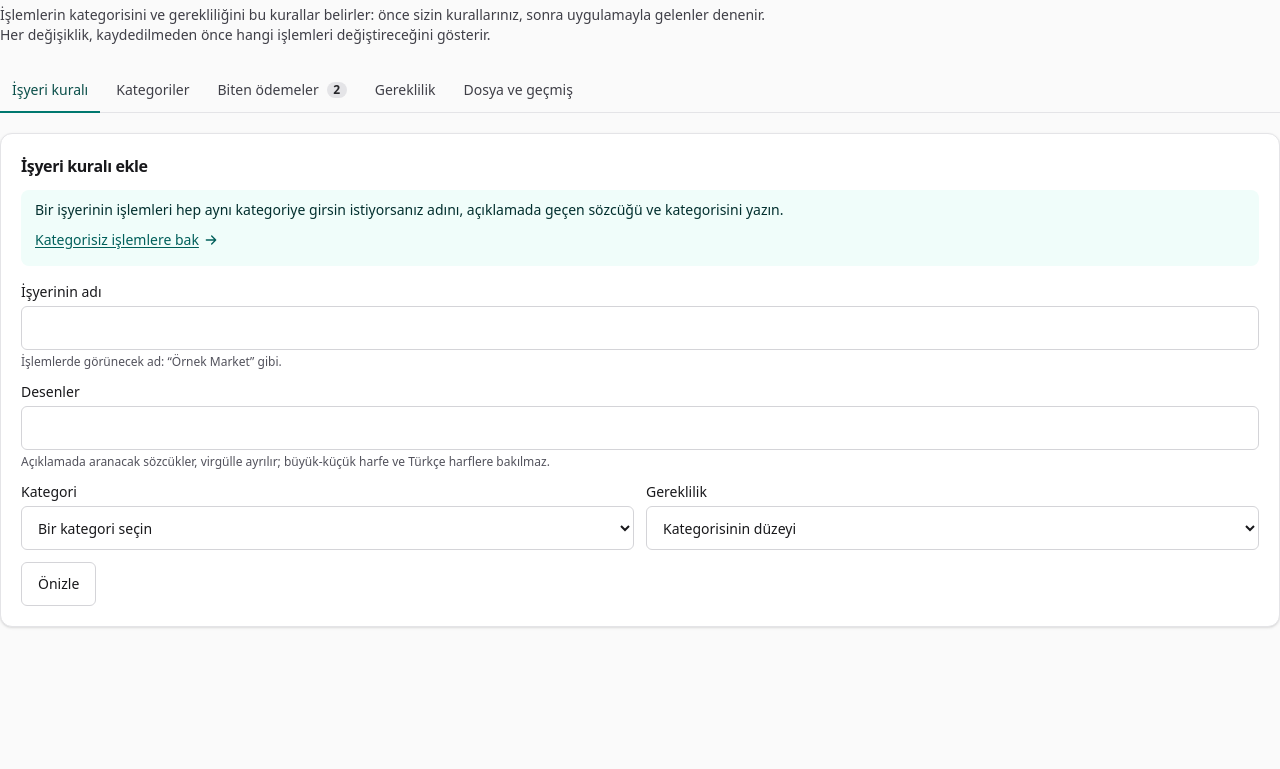
Test case: RulesPage: a merchant rule › previews the rule before writing it, then says what it changed
Step 1. Type "Örnek Kafe" into the field labelled "İşyerinin adı" → coordinates (640, 328), box top-left (21, 306), bottom-right (1259, 350)
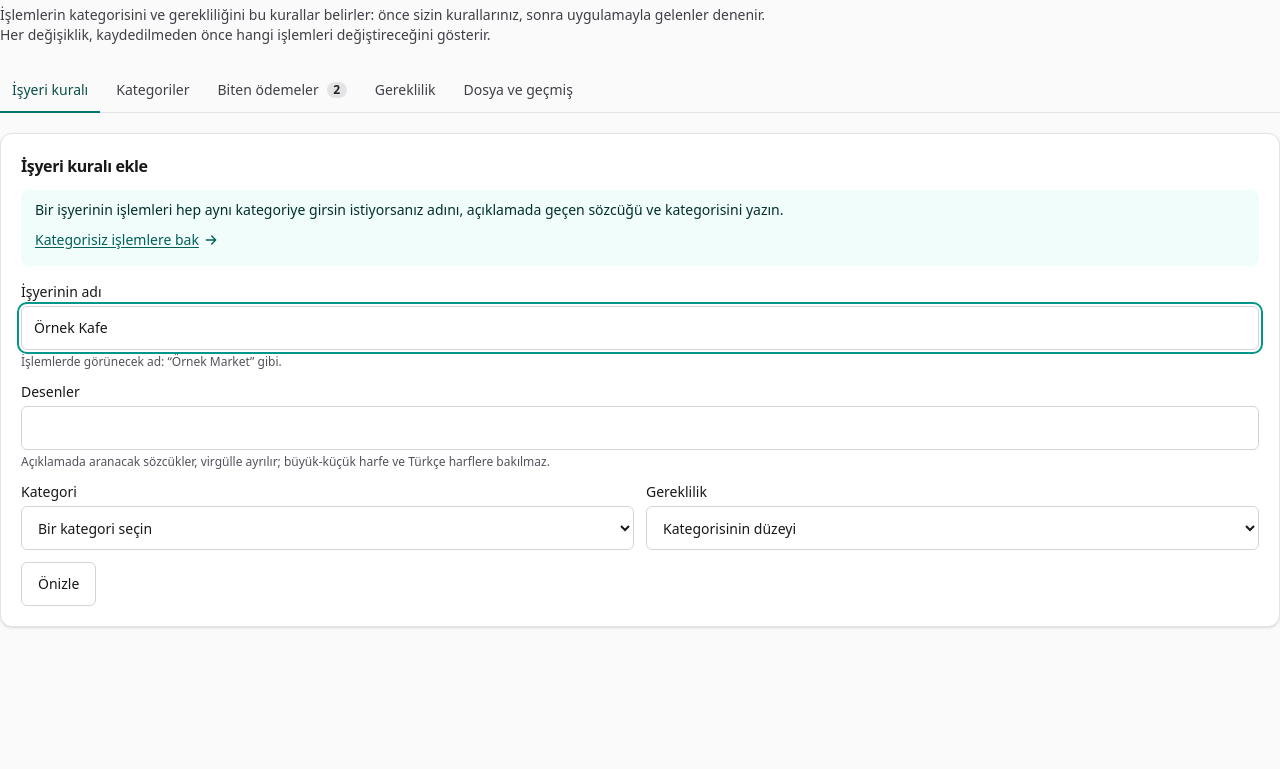
Step 2. Type "ORNEK KAFE, KAFE ORNEK" into the field labelled "Desenler" → coordinates (640, 428), box top-left (21, 406), bottom-right (1259, 450)
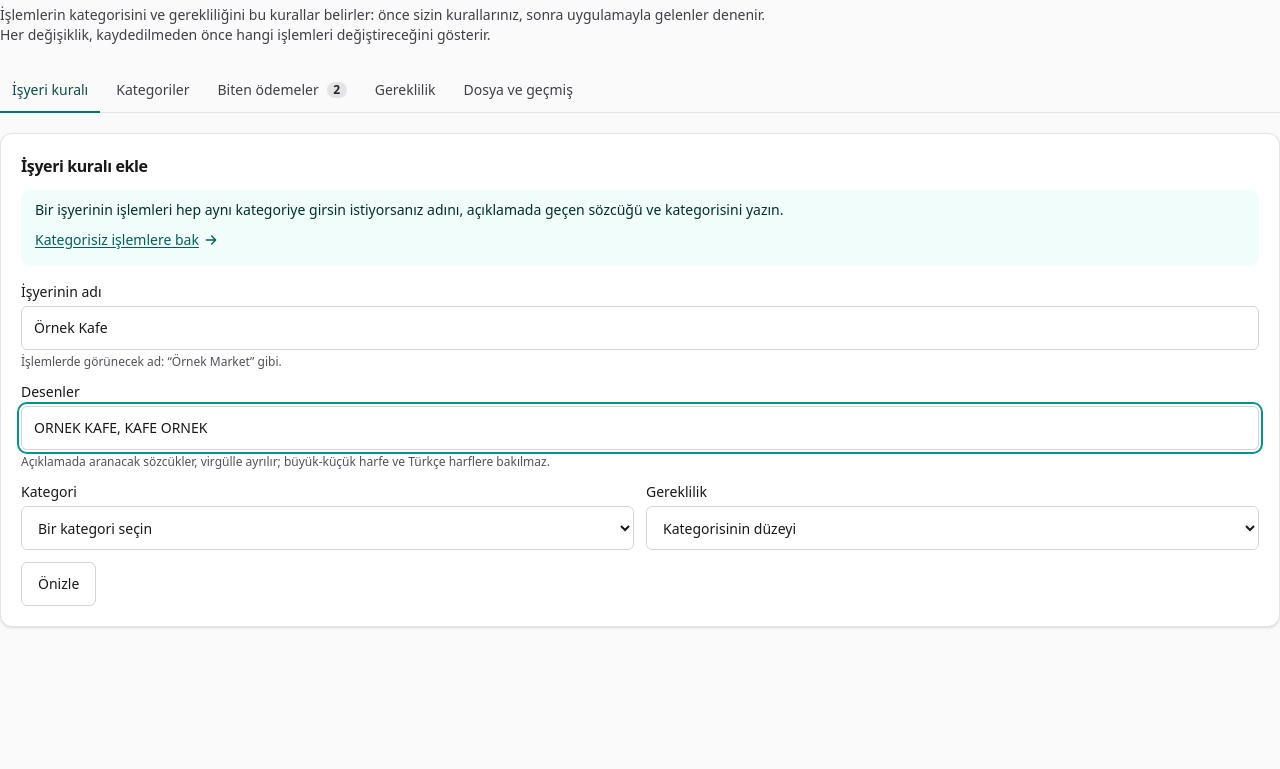
Step 3. Select "Kafe" in the dropdown labelled "Kategori" → coordinates (328, 528), box top-left (21, 506), bottom-right (634, 550)
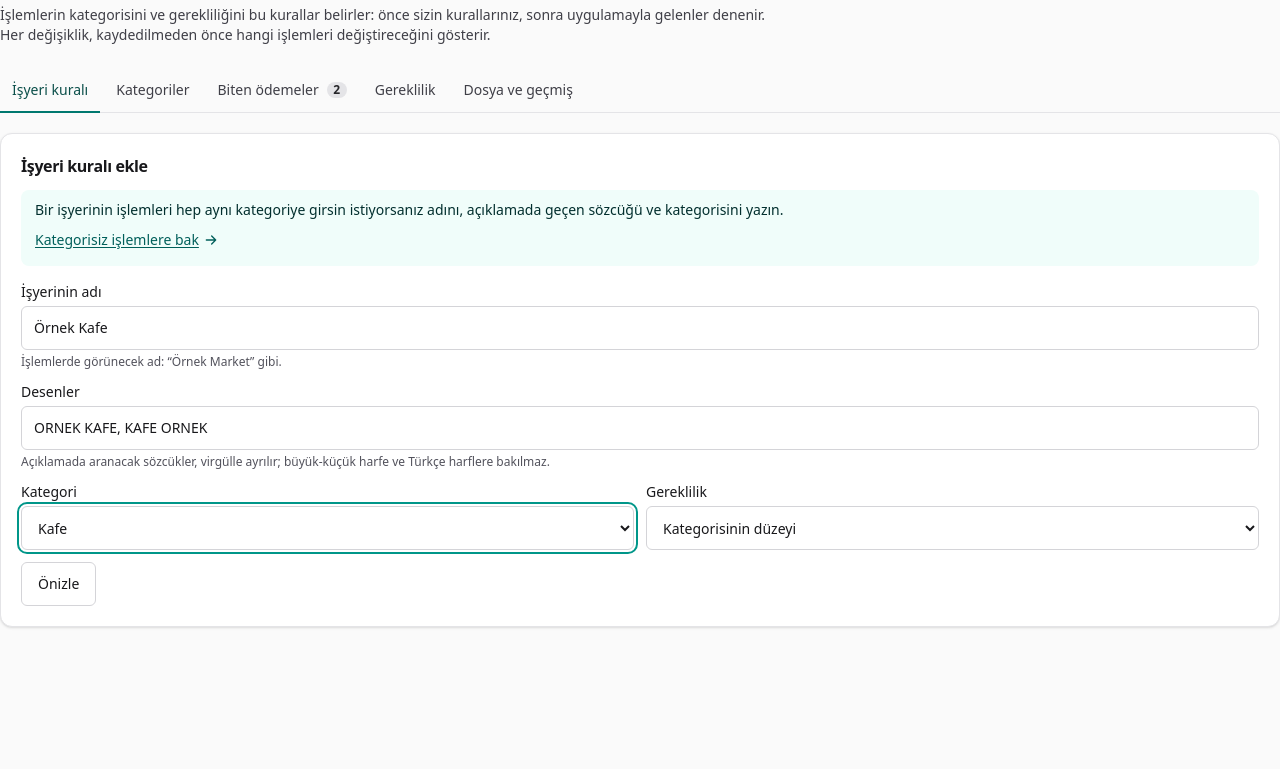
Step 4. Select "İsteğe bağlı" in the dropdown labelled "Gereklilik" → coordinates (952, 528), box top-left (646, 506), bottom-right (1259, 550)
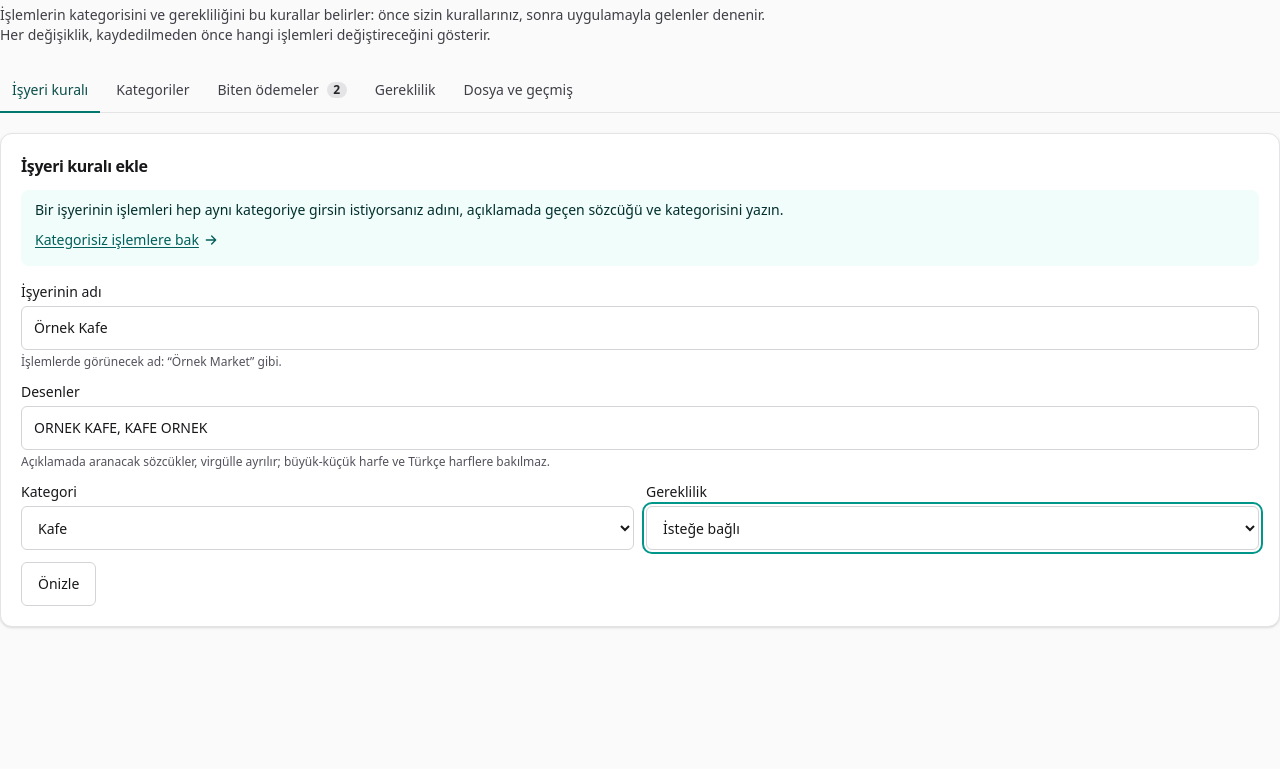
Check: the button "Kaydet" is not shown
Step 5. Click the button "Önizle" → coordinates (59, 584), box top-left (21, 562), bottom-right (96, 606)
(page scrolled)
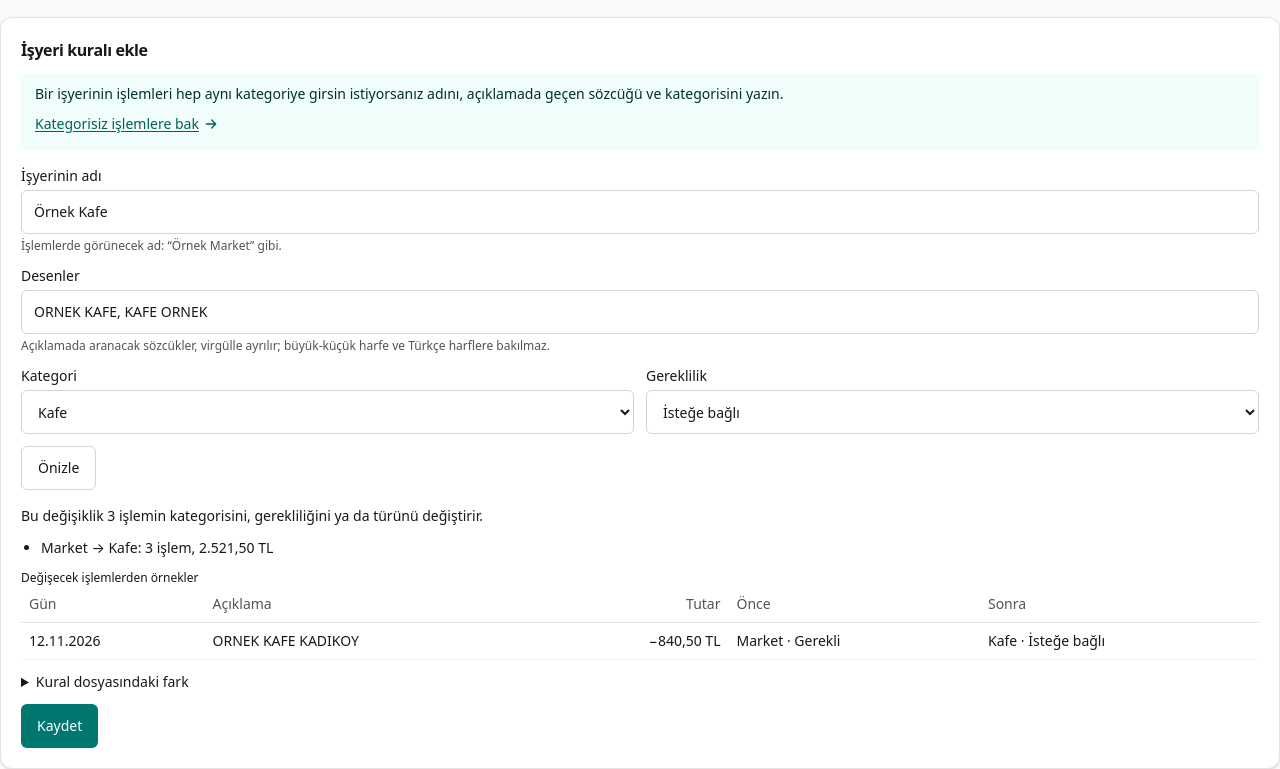
Check: the text "Bu değişiklik 3 işlemin kategorisini, gerekliliğini ya da türünü değiştirir." is shown, box top-left (21, 506), bottom-right (483, 525)
Check: the list item "Market → Kafe: 3 işlem, 2.521,50 TL" is shown, box top-left (41, 538), bottom-right (273, 557)
Check: the text "−840,50 TL" is shown, box top-left (649, 631), bottom-right (720, 651)
Step 6. Click the button "Kaydet" → coordinates (60, 726), box top-left (21, 704), bottom-right (98, 748)
(page scrolled)
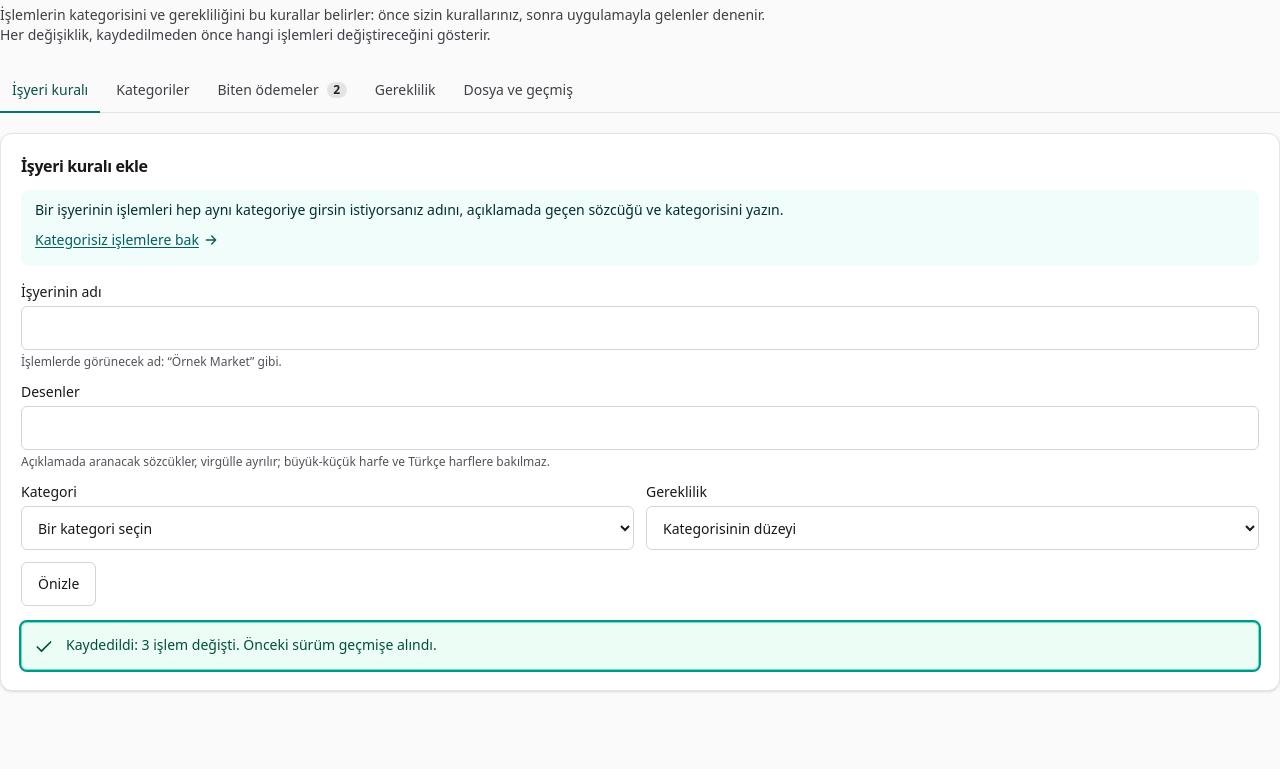
Check: the field labelled "İşyerinin adı" is empty, box top-left (21, 306), bottom-right (1259, 350)
Check: the button "Kaydet" is gone
